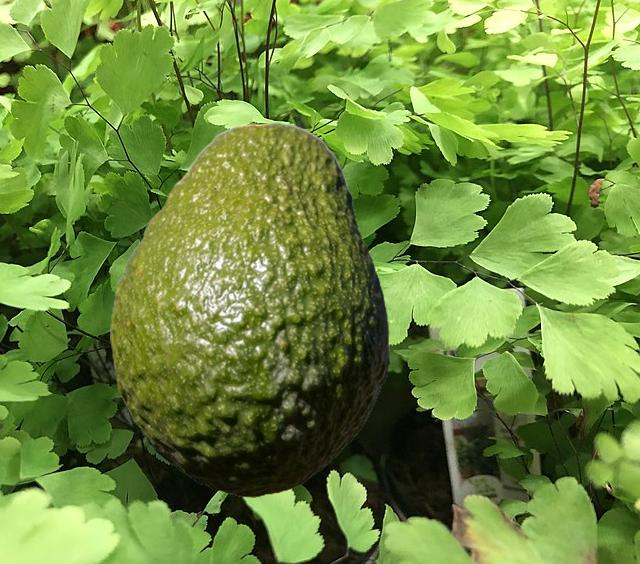avocado: (110, 121, 388, 496)
